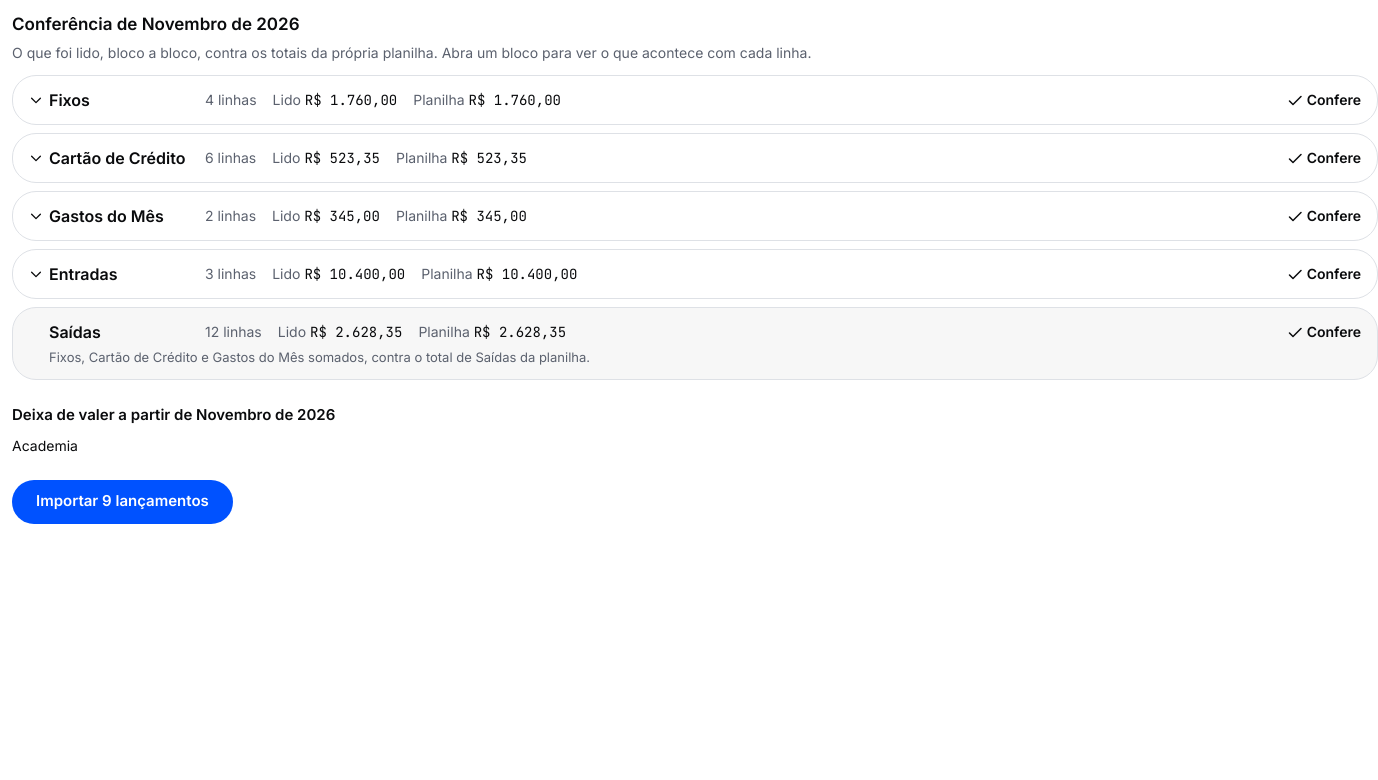
Test case: PassoConferencia — o destino de cada linha (IMP-05, AC 5) › novembro, Cartão: Fone continua de outubro com valor novo
The width and height of the screenshot is (1378, 780).
Click the heading that starts with "Cartão de Crédito" at (117, 158), box [29,148,1361,168]
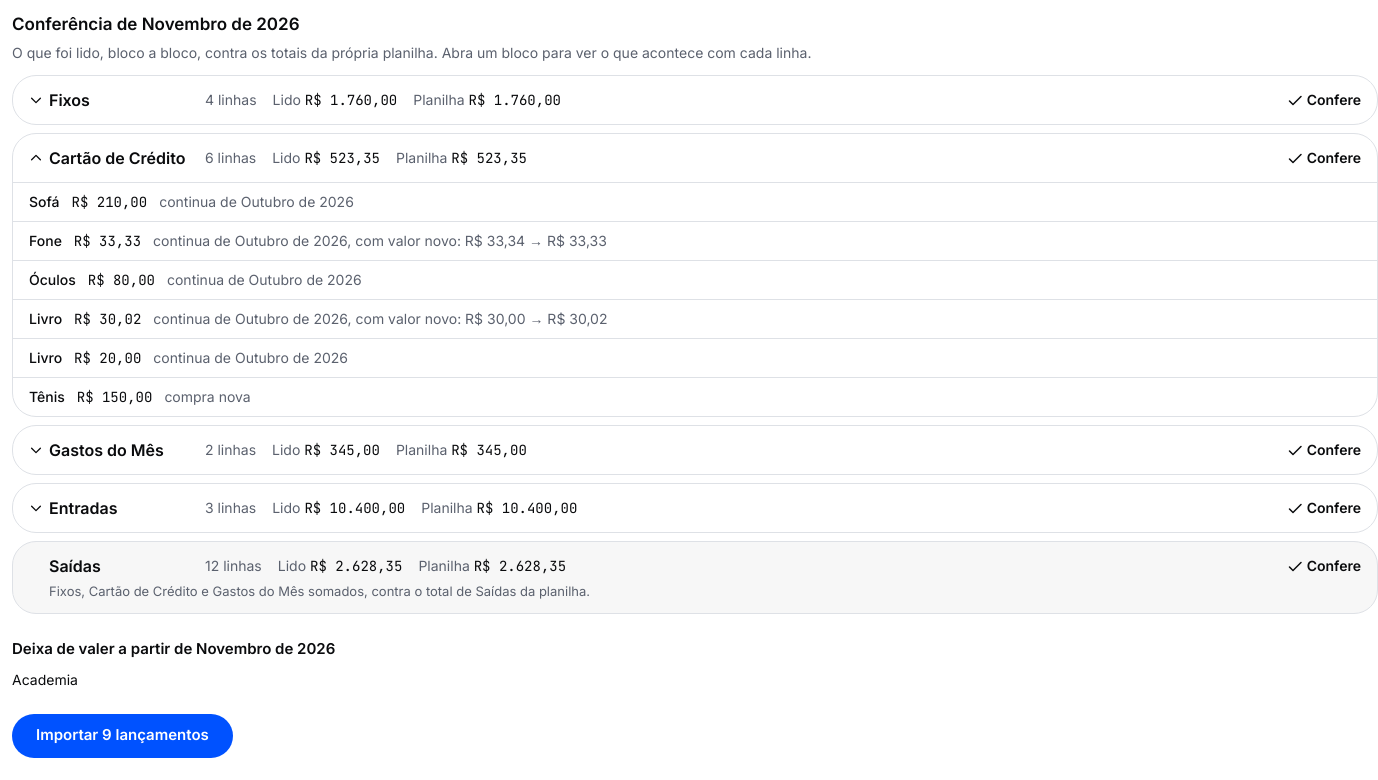
Expected: the text "Sofá" does not show "valor novo"
Expected: the list item "Fone" shows "continua de Outubro de 2026, com valor novo: R$ 33,34 → R$ 33,33", [153,232,607,248]
Expected: the list item "Sofá" shows "continua de Outubro de 2026", [159,192,354,210]
